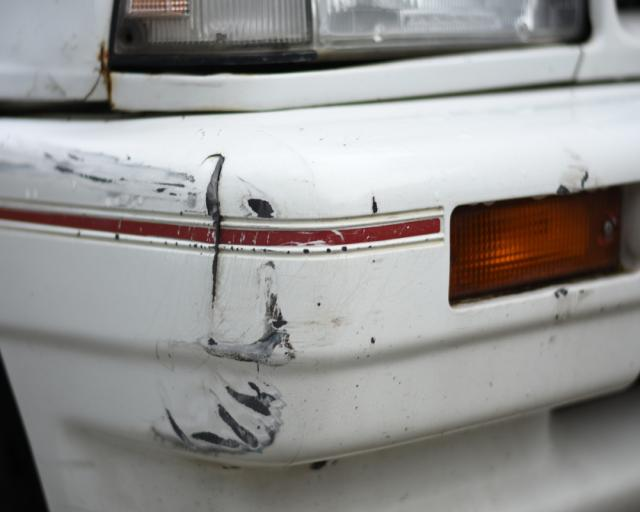crack: (203, 154, 225, 316)
scratch: (150, 257, 300, 464), (40, 147, 203, 209), (241, 187, 282, 224)
